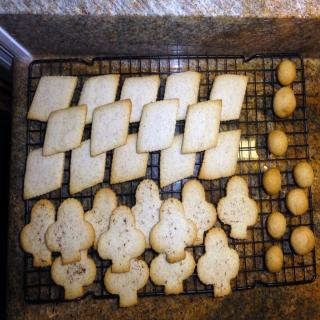Cookie: (19, 70, 258, 308)
